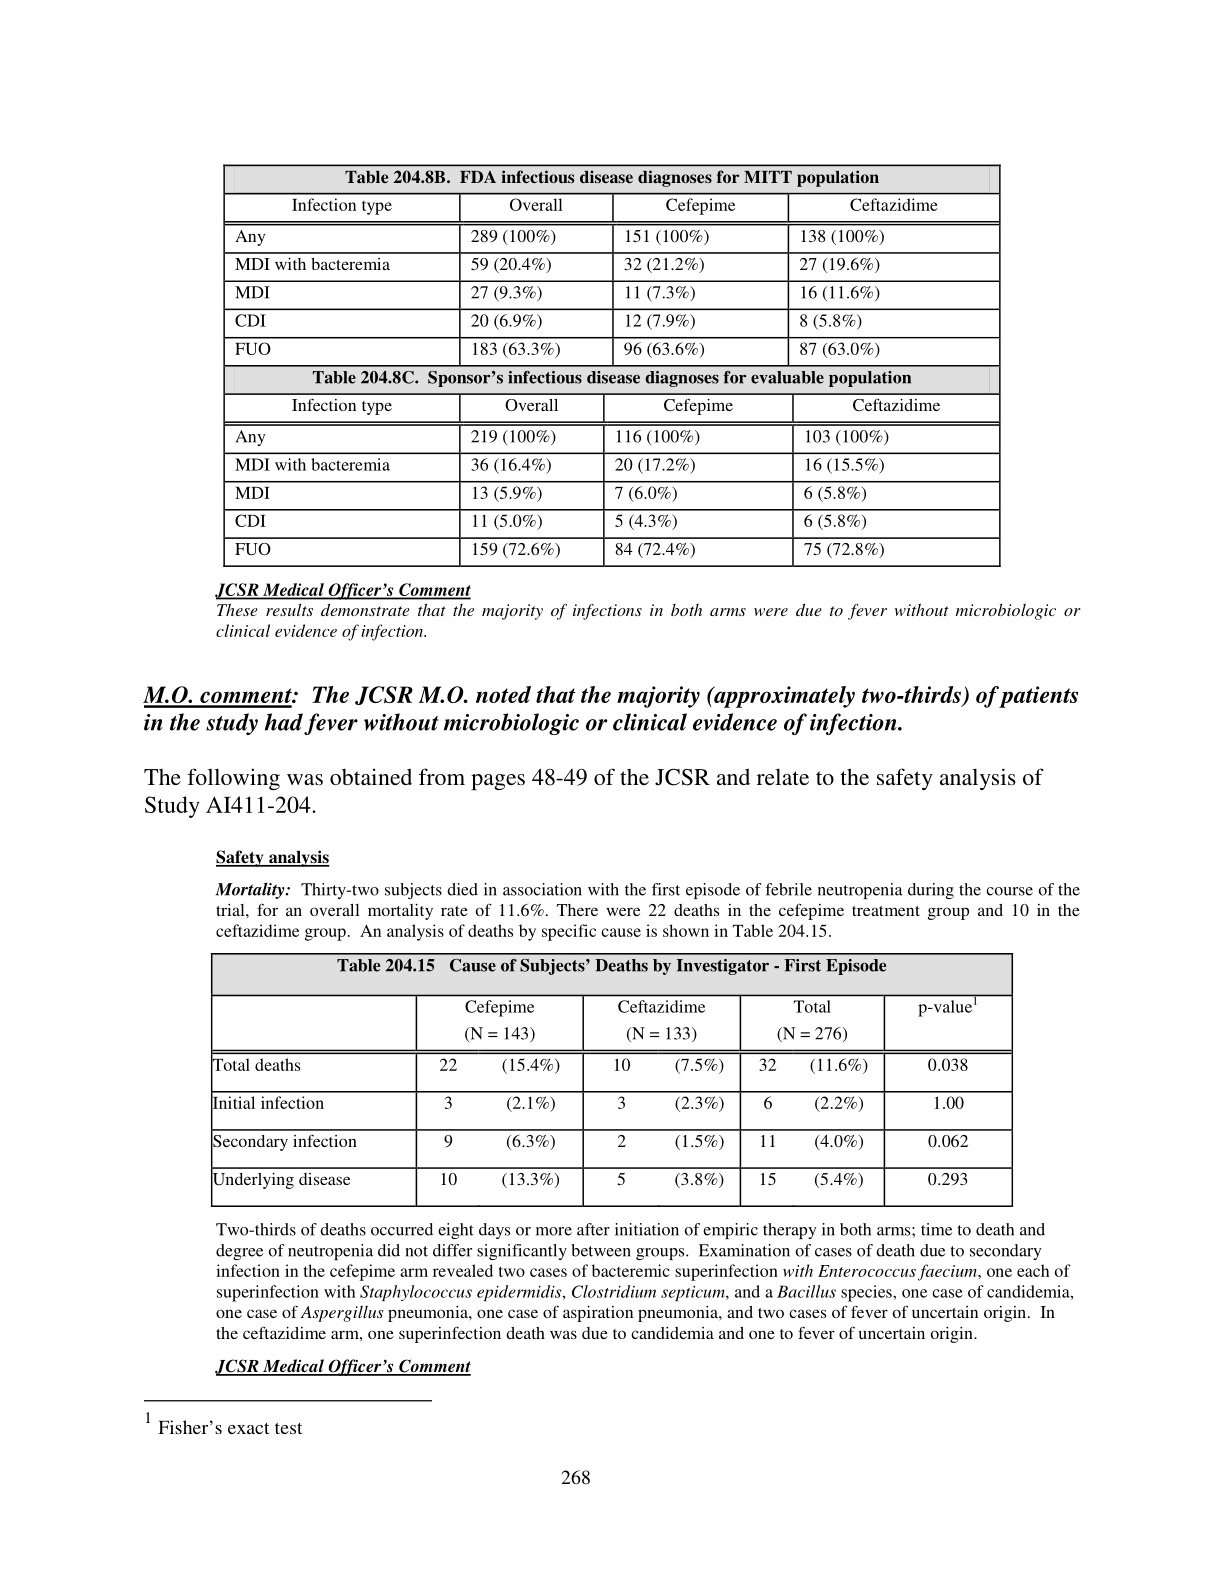merged_cells: (222, 165, 1002, 570), (210, 951, 1014, 1209)
